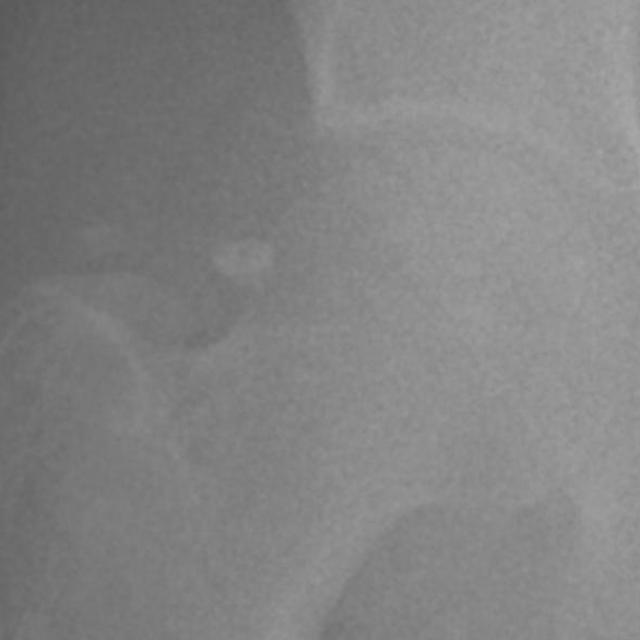Fitted_femural_head: (386, 150, 432, 386)
